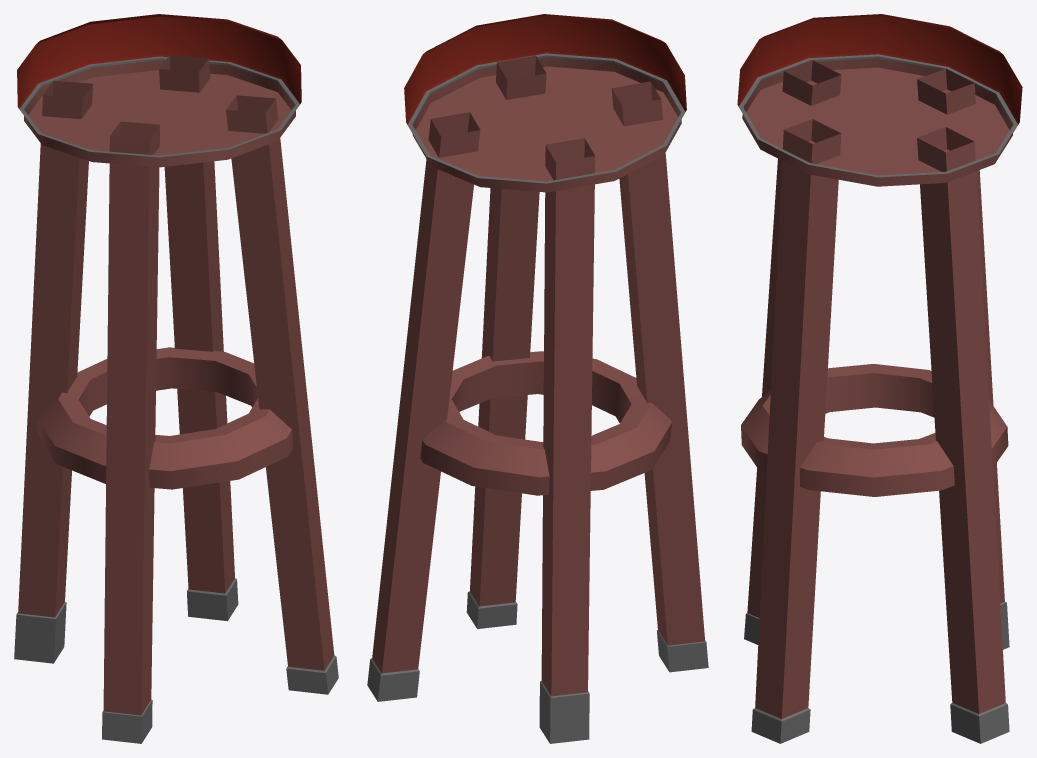
Rendered from Stool.glb.
3 views of the same model, side by side, from view 1: azimuth 30°, elevation 25°; view 2: azimuth 150°, elevation 25°; view 3: azimuth 270°, elevation 25° (orthographic).
Parts seen in each view (by area): view 1: Cube; view 2: Cube; view 3: Cube.
Part boxes in pixels (box(x1,y1,x2,y2)): Cube: box(14, 14, 338, 743); Cube: box(367, 14, 708, 743); Cube: box(737, 14, 1022, 743).
Bounding box in the file's own units: 0.3487 × 0.8143 × 0.3417.
